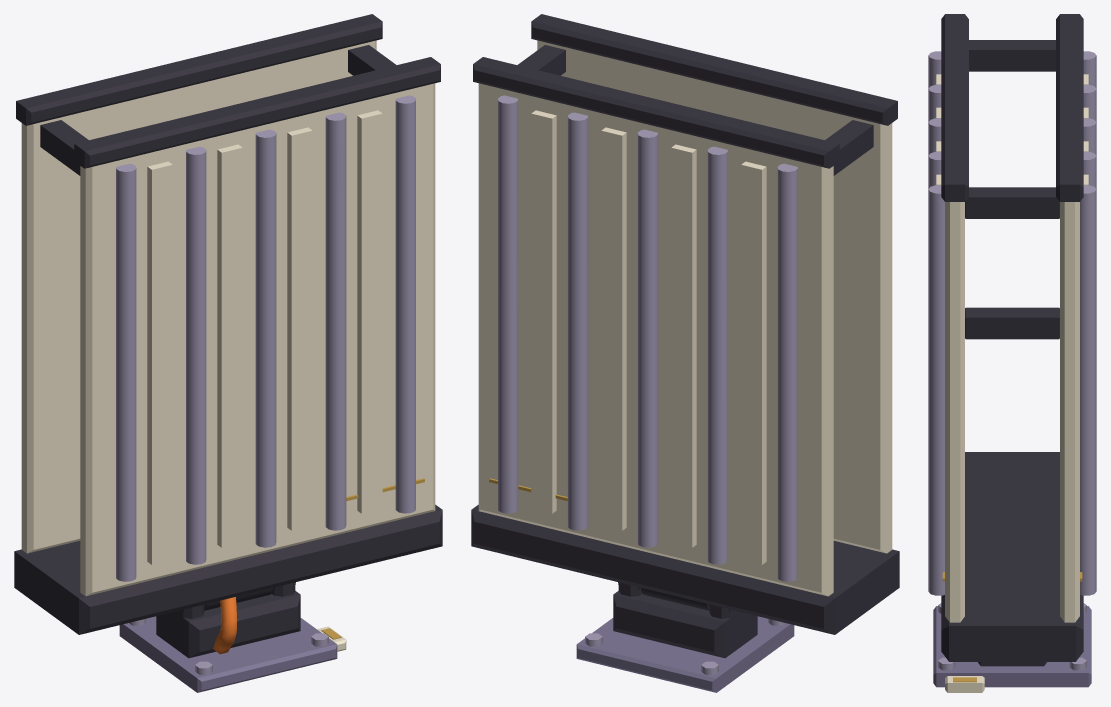
File: thermal_radiator.glb
3 views of the same model, side by side, from view 1: azimuth 30°, elevation 25°; view 2: azimuth 150°, elevation 25°; view 3: azimuth 270°, elevation 25° (orthographic).
Visible parts, largest first — view 1: panels_creamHull, panels_purpleGreyLight, panels_graphite, plate_purpleGrey, base_graphite, base_orange; view 2: panels_creamHull, panels_purpleGreyLight, panels_graphite, plate_purpleGrey, base_graphite; view 3: panels_graphite, panels_creamHull, panels_purpleGreyLight, plate_purpleGrey, plate_creamHull, plate_purpleGreyLight, base_graphite.
Boxes of the visible parts, <box> form: panels_creamHull: <box>21,40,435,596</box>; panels_purpleGreyLight: <box>116,95,415,581</box>; panels_graphite: <box>14,14,442,634</box>; plate_purpleGrey: <box>119,616,337,692</box>; base_graphite: <box>156,582,300,658</box>; base_orange: <box>213,597,237,654</box>; panels_creamHull: <box>478,40,892,596</box>; panels_purpleGreyLight: <box>498,95,797,581</box>; panels_graphite: <box>471,14,899,634</box>; plate_purpleGrey: <box>576,616,794,692</box>; base_graphite: <box>613,582,757,658</box>; panels_graphite: <box>941,14,1083,661</box>; panels_creamHull: <box>936,74,1088,622</box>; panels_purpleGreyLight: <box>928,51,1096,595</box>; plate_purpleGrey: <box>933,606,1091,687</box>; plate_creamHull: <box>945,676,984,692</box>; plate_purpleGreyLight: <box>938,603,1086,670</box>; base_graphite: <box>978,662,1046,666</box>.
Size of the model in its own units: 0.52 by 0.772 by 0.212.
